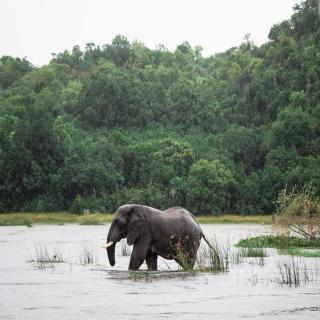Elephant: (104, 198, 220, 279)
